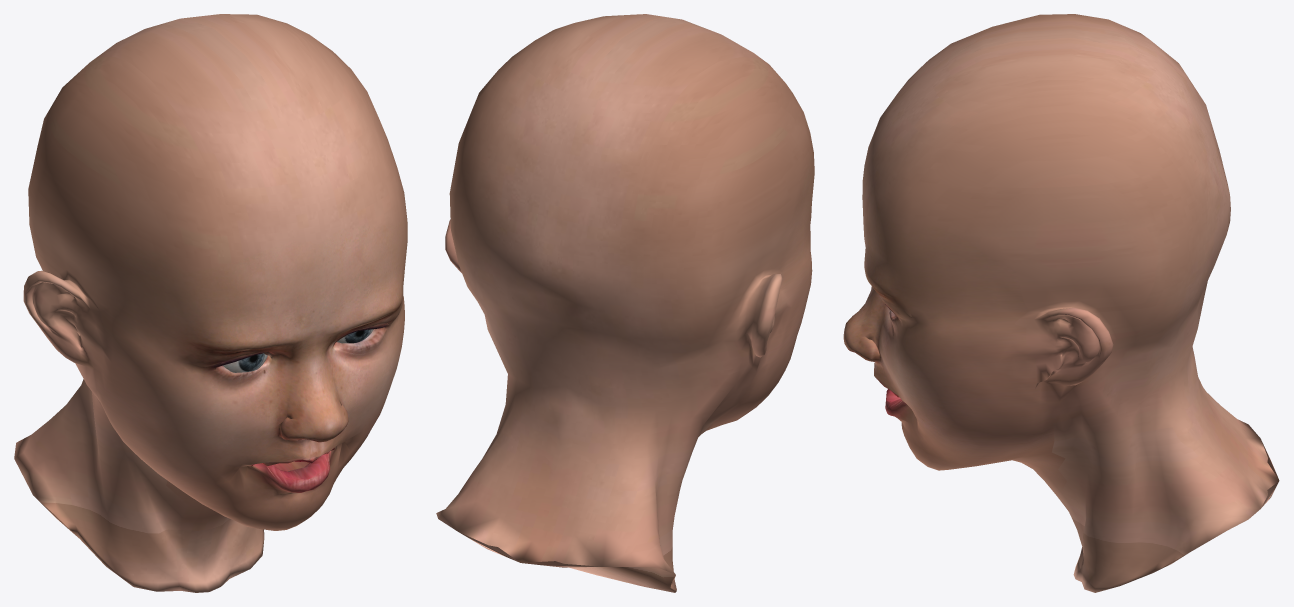
The picture shows the model from 3 angles, left to right: view 1: azimuth 30°, elevation 25°; view 2: azimuth 150°, elevation 25°; view 3: azimuth 270°, elevation 25°; orthographic projection. The views are drawn at different scales.
Visible parts, largest first — view 1: Anakin, Eye01.Eye; view 2: Anakin; view 3: Anakin.
Part boxes in pixels (x1,y1,x2,y2): Anakin: [14, 14, 407, 592]; Eye01.Eye: [223, 353, 267, 372]; Anakin: [436, 14, 814, 592]; Anakin: [843, 14, 1279, 592].
Bounding box in the file's own units: 470 × 741 × 543.
3 materials, 3 textured.
